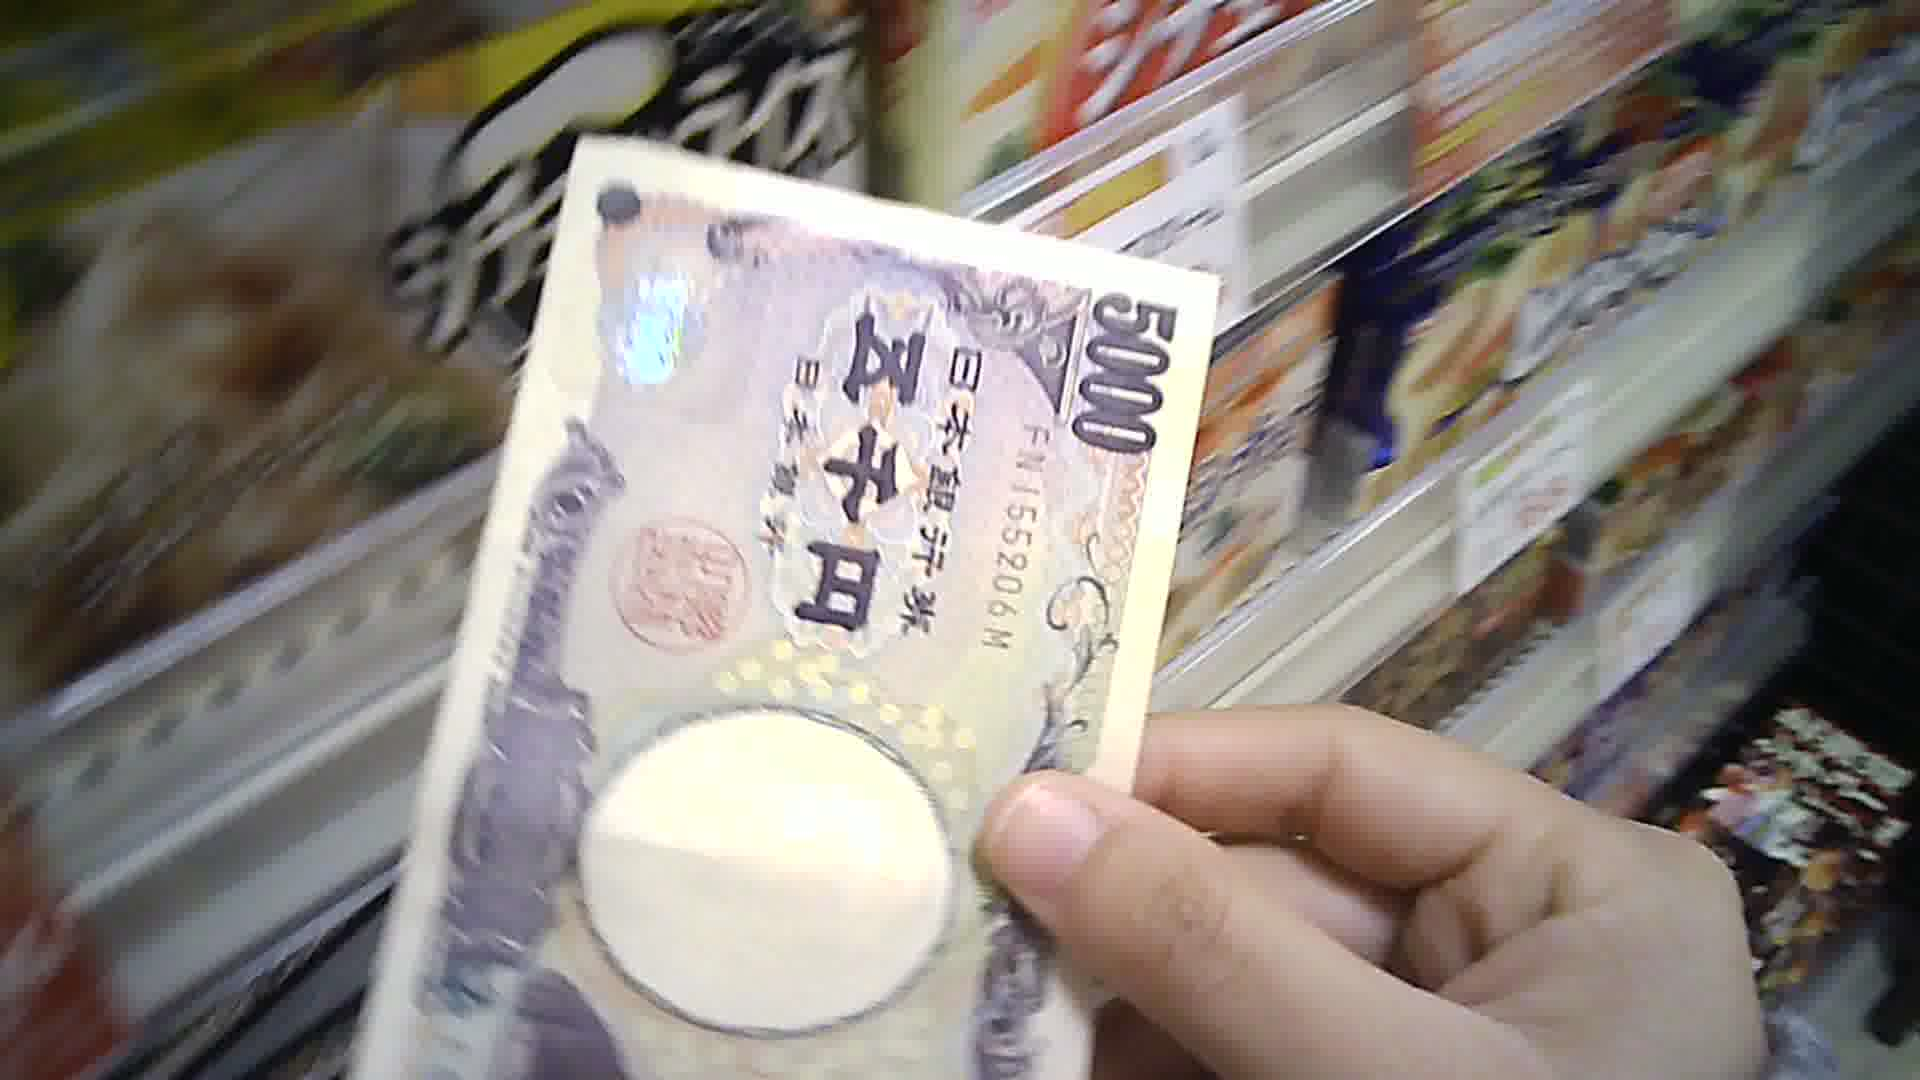5,000 Yen: (444, 116, 1212, 1075)
